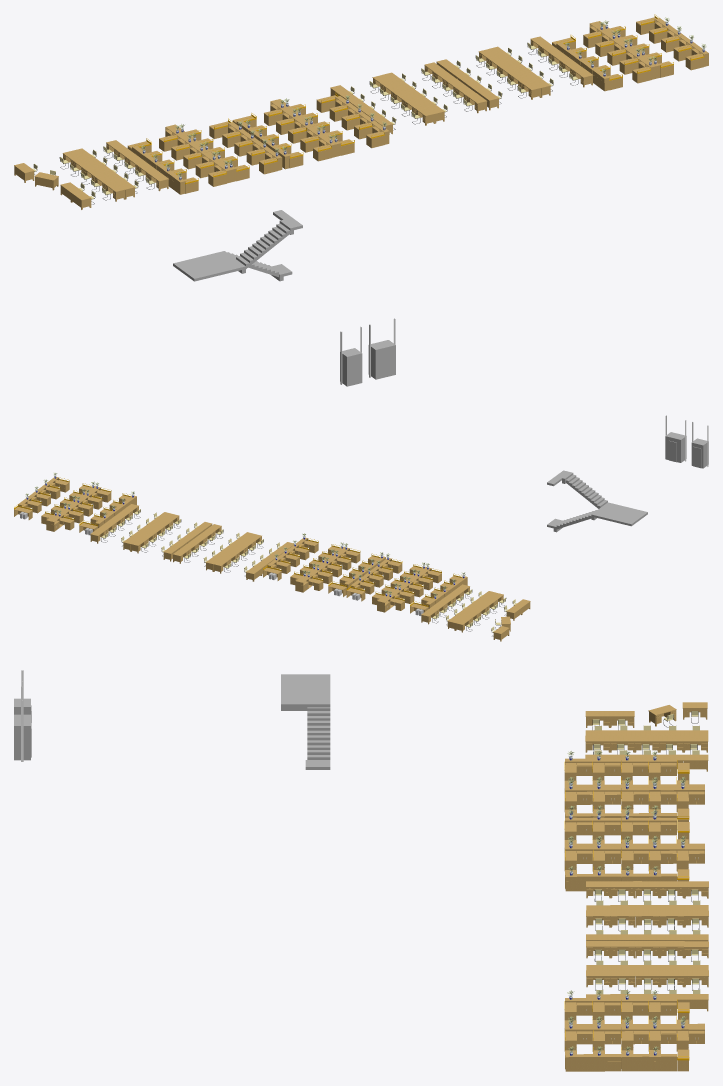
Rendered from 6楼桌椅.gltf.
The picture shows the model from 3 angles, top to bottom: view 1: azimuth 30°, elevation 25°; view 2: azimuth 150°, elevation 25°; view 3: azimuth 270°, elevation 25°; orthographic projection. The views are drawn at different scales.
Parts seen in each view (by area): view 1: AT双跑平行梯-首层 [694775], DT 2015 [465471], DT 1615 [465335]; view 2: AT双跑平行梯-首层 [694775], DT 2015 [465471], DT 1615 [465335]; view 3: AT双跑平行梯-首层 [694775], DT 2015 [465471].
Boxes of the visible parts, box(x1,y1,x2,y2) form: AT双跑平行梯-首层 [694775]: box(173, 210, 302, 281); DT 2015 [465471]: box(368, 318, 395, 379); DT 1615 [465335]: box(340, 326, 362, 386); AT双跑平行梯-首层 [694775]: box(547, 470, 647, 532); DT 2015 [465471]: box(665, 415, 686, 462); DT 1615 [465335]: box(691, 422, 708, 468); AT双跑平行梯-首层 [694775]: box(281, 674, 330, 769); DT 2015 [465471]: box(14, 686, 31, 761).
Size of the model in its own units: 50.51 by 4.6 by 41.23.
13 materials, 1 textured.
